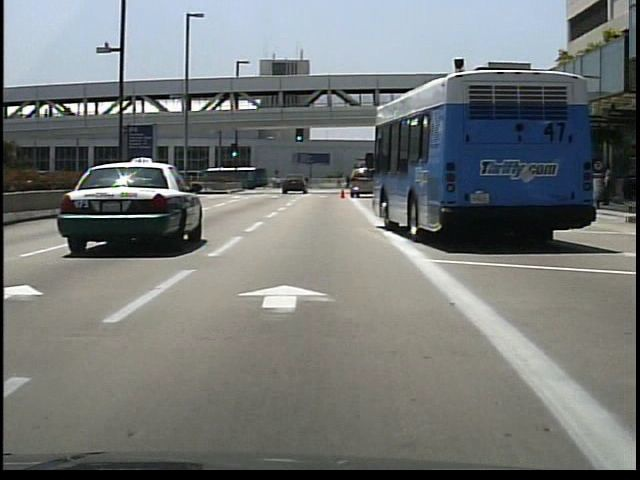person: (344, 175, 353, 191)
